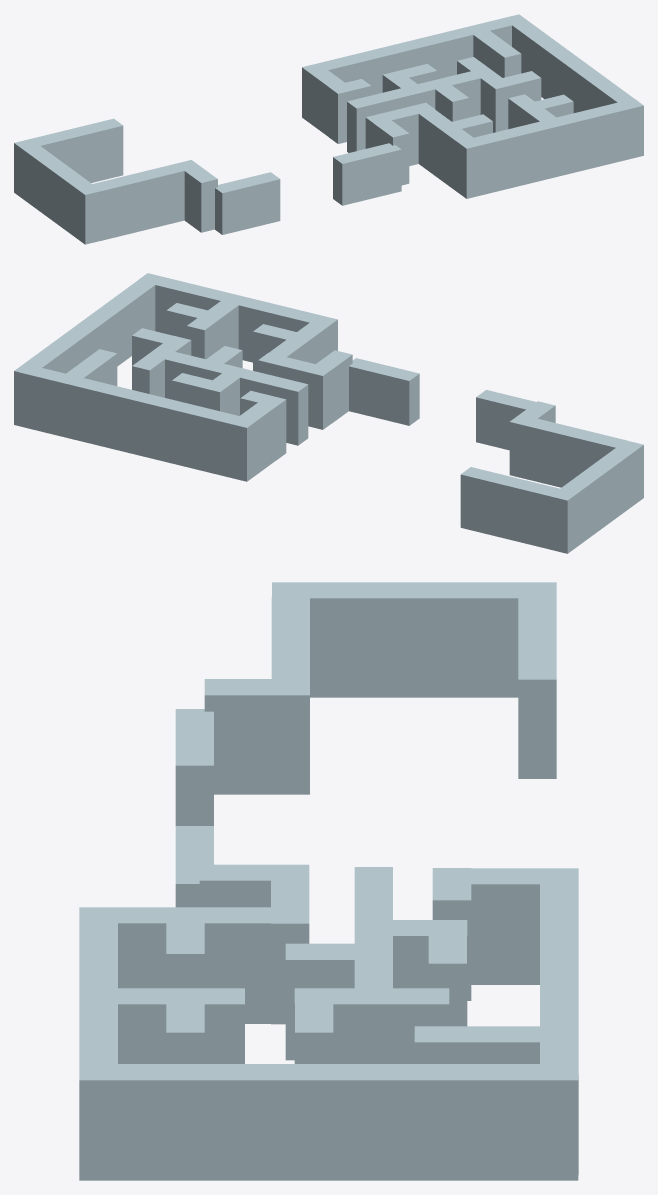
Rendered from laberinto2.fbx.
3 renders of one model, top to bottom at view 1: azimuth 30°, elevation 25°; view 2: azimuth 150°, elevation 25°; view 3: azimuth 270°, elevation 25°, orthographic. The views are drawn at different scales.
Parts seen in each view (by area): view 1: Cube.008; view 2: Cube.008; view 3: Cube.008.
Boxes of the visible parts, box(x1,y1,x2,y2) form: Cube.008: box(14, 14, 643, 244); Cube.008: box(14, 273, 643, 553); Cube.008: box(79, 582, 578, 1180).
Bounding box in the file's own units: 3073 × 289 × 1301.
1 material, 1 textured.
